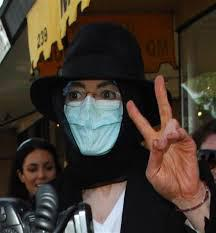NONE: (26, 159, 57, 194)
OK: (58, 86, 131, 159)
